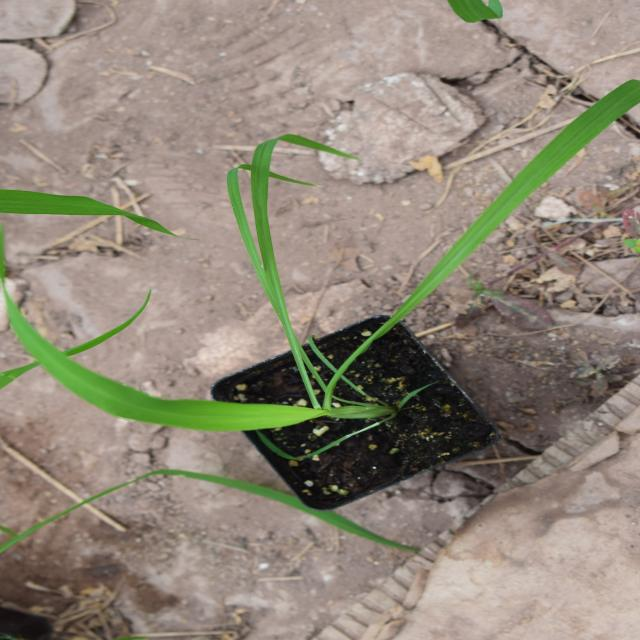barnyard_grass: (202, 43, 540, 626)
